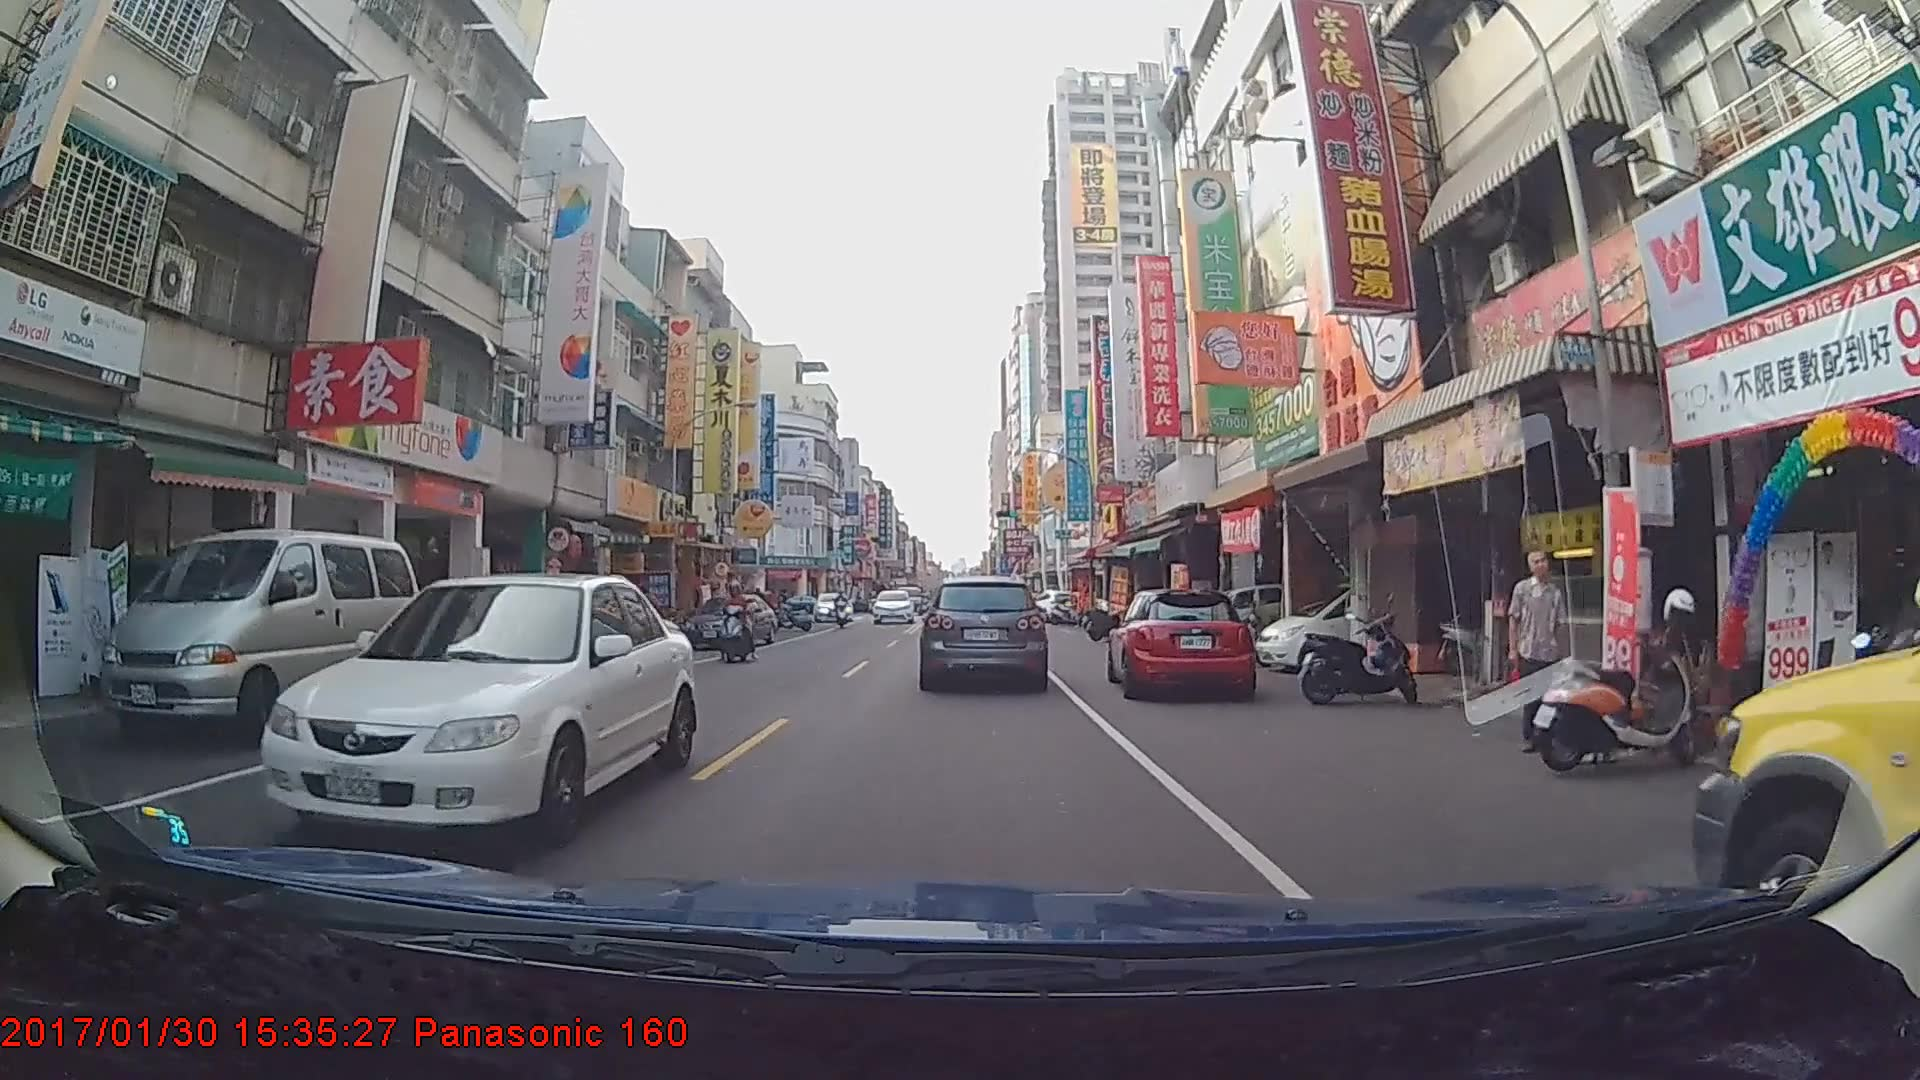pedestrian: (1506, 549, 1573, 758)
rider: (718, 577, 762, 657)
vehicle: (1693, 428, 1918, 1009), (256, 572, 694, 851), (97, 527, 423, 747), (1113, 586, 1256, 700), (921, 574, 1048, 688), (680, 593, 774, 650), (869, 582, 913, 618), (811, 587, 852, 619)
